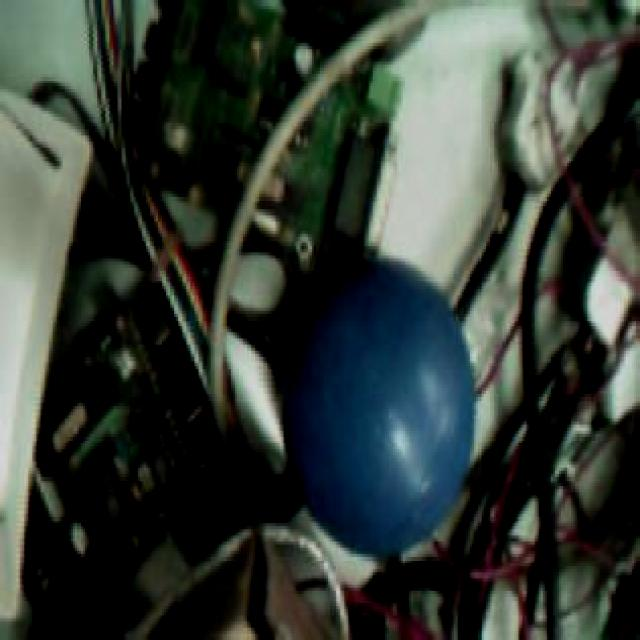BallPurple: (284, 262, 474, 554)
